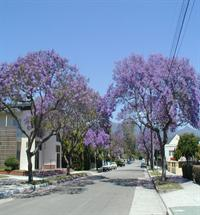tree: (106, 52, 197, 184)
